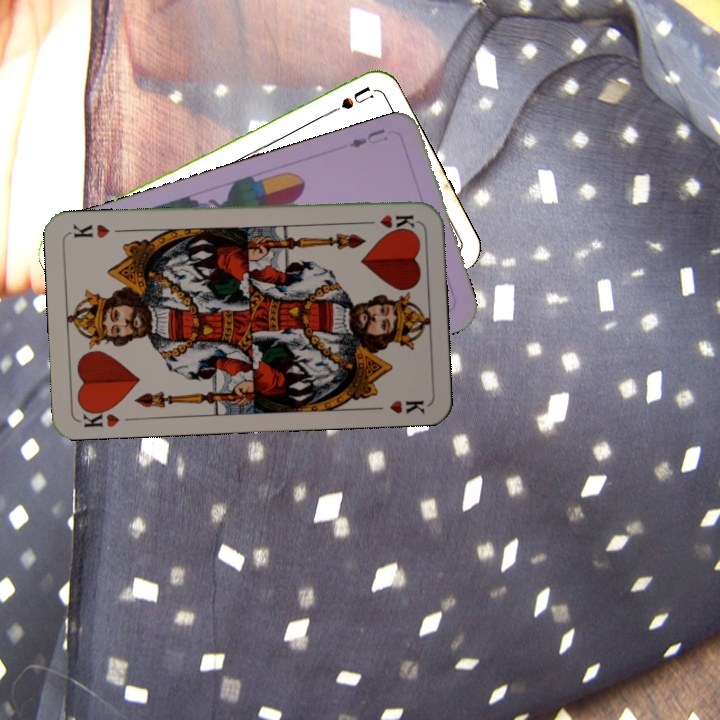EU: (345, 124, 387, 151)
HK: (77, 402, 122, 430), (359, 211, 417, 232)
SU: (318, 82, 374, 120)
